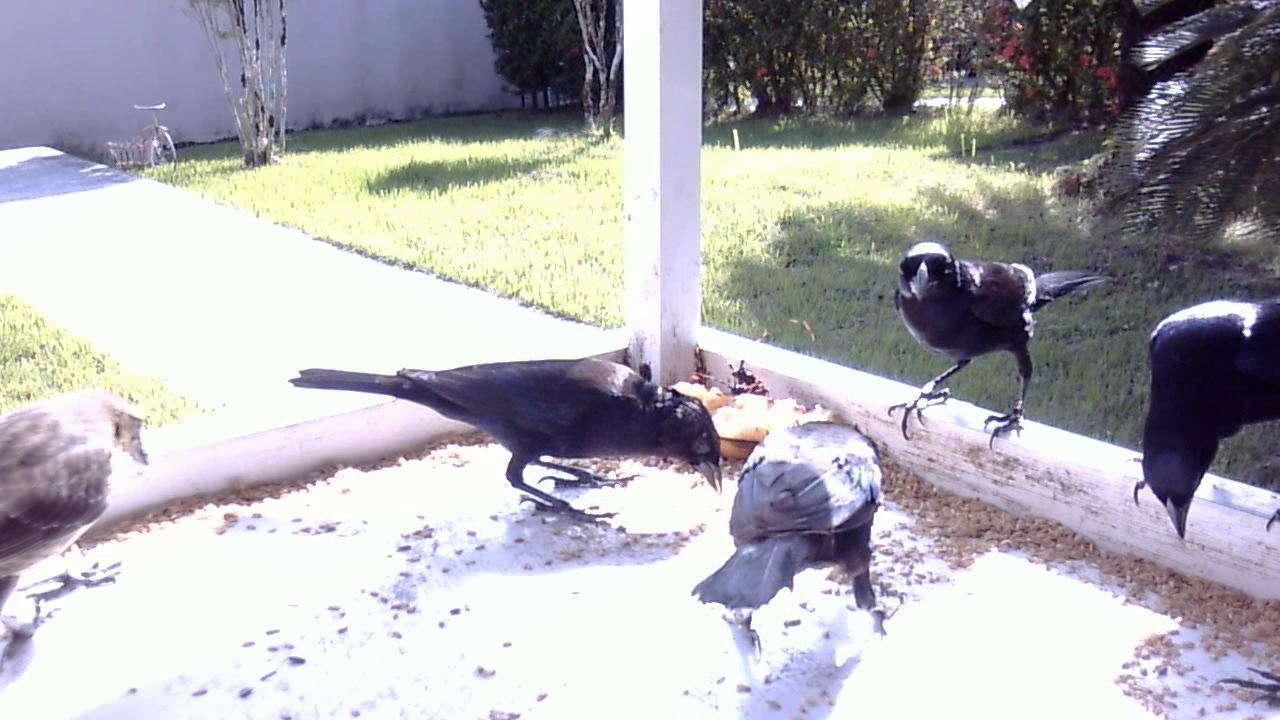chupim: (282, 335, 734, 545), (679, 390, 907, 679), (873, 228, 1120, 467), (1, 371, 173, 671), (1120, 291, 1278, 551)
